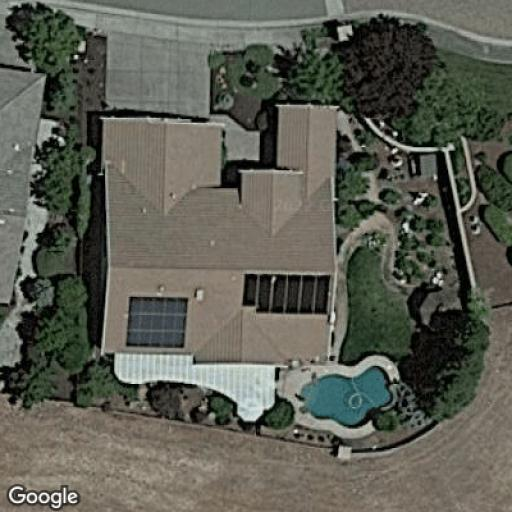solar-panel: (242, 273, 331, 317), (125, 294, 190, 349)
